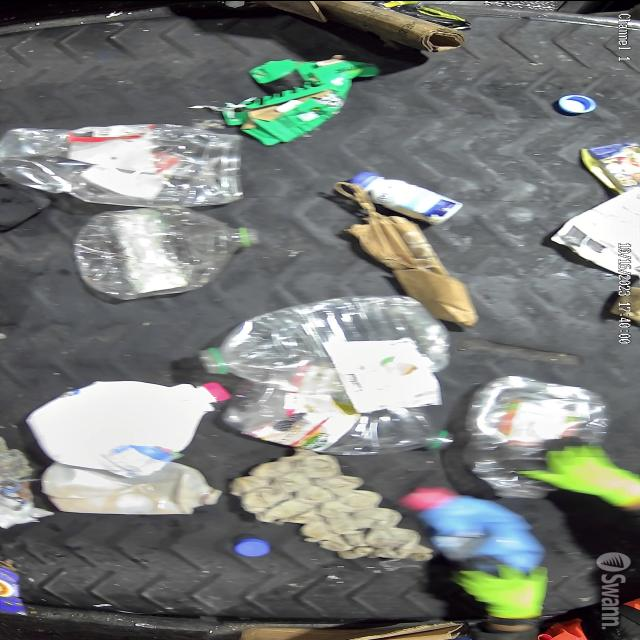milk_jug: (36, 381, 231, 469)
non_white_jug: (227, 62, 379, 140), (411, 488, 547, 568), (45, 463, 228, 519)
plastic_bottle: (200, 296, 446, 392), (79, 207, 262, 293), (474, 381, 613, 494), (227, 396, 455, 450)
